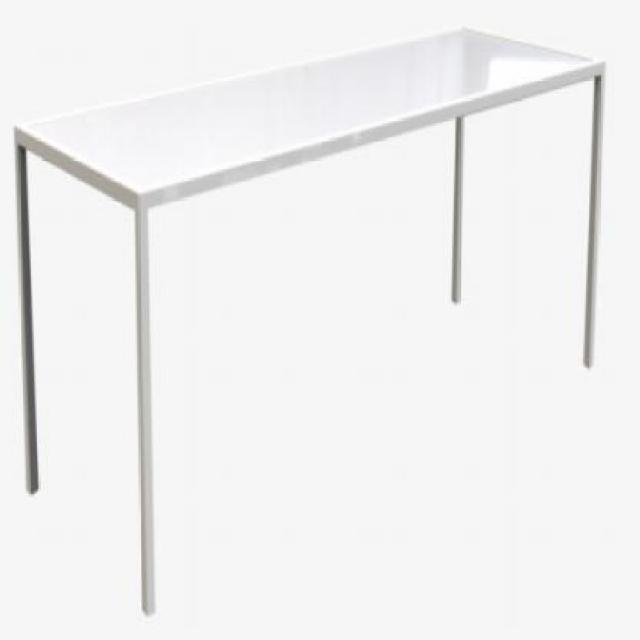table: (8, 22, 607, 620)
